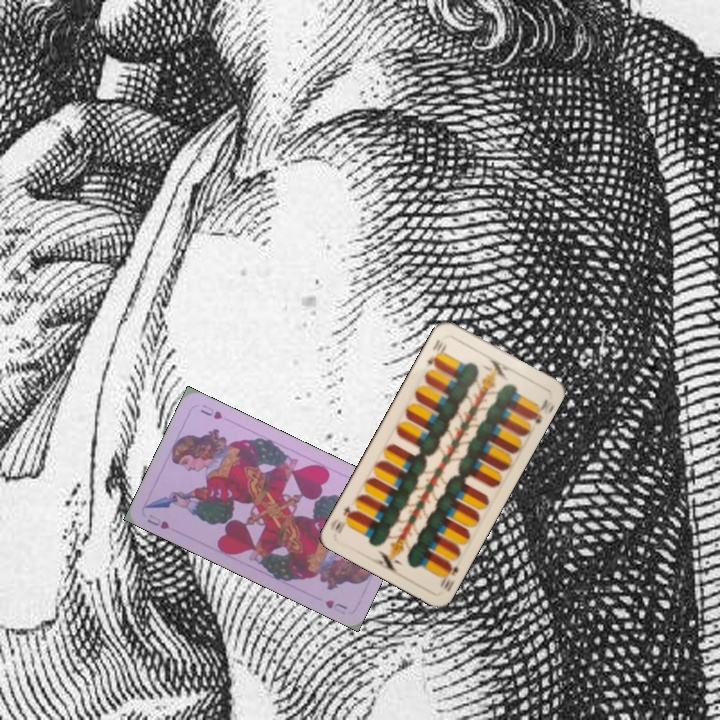E10: (436, 558, 461, 594), (423, 335, 449, 369)
HU: (143, 510, 172, 532)
